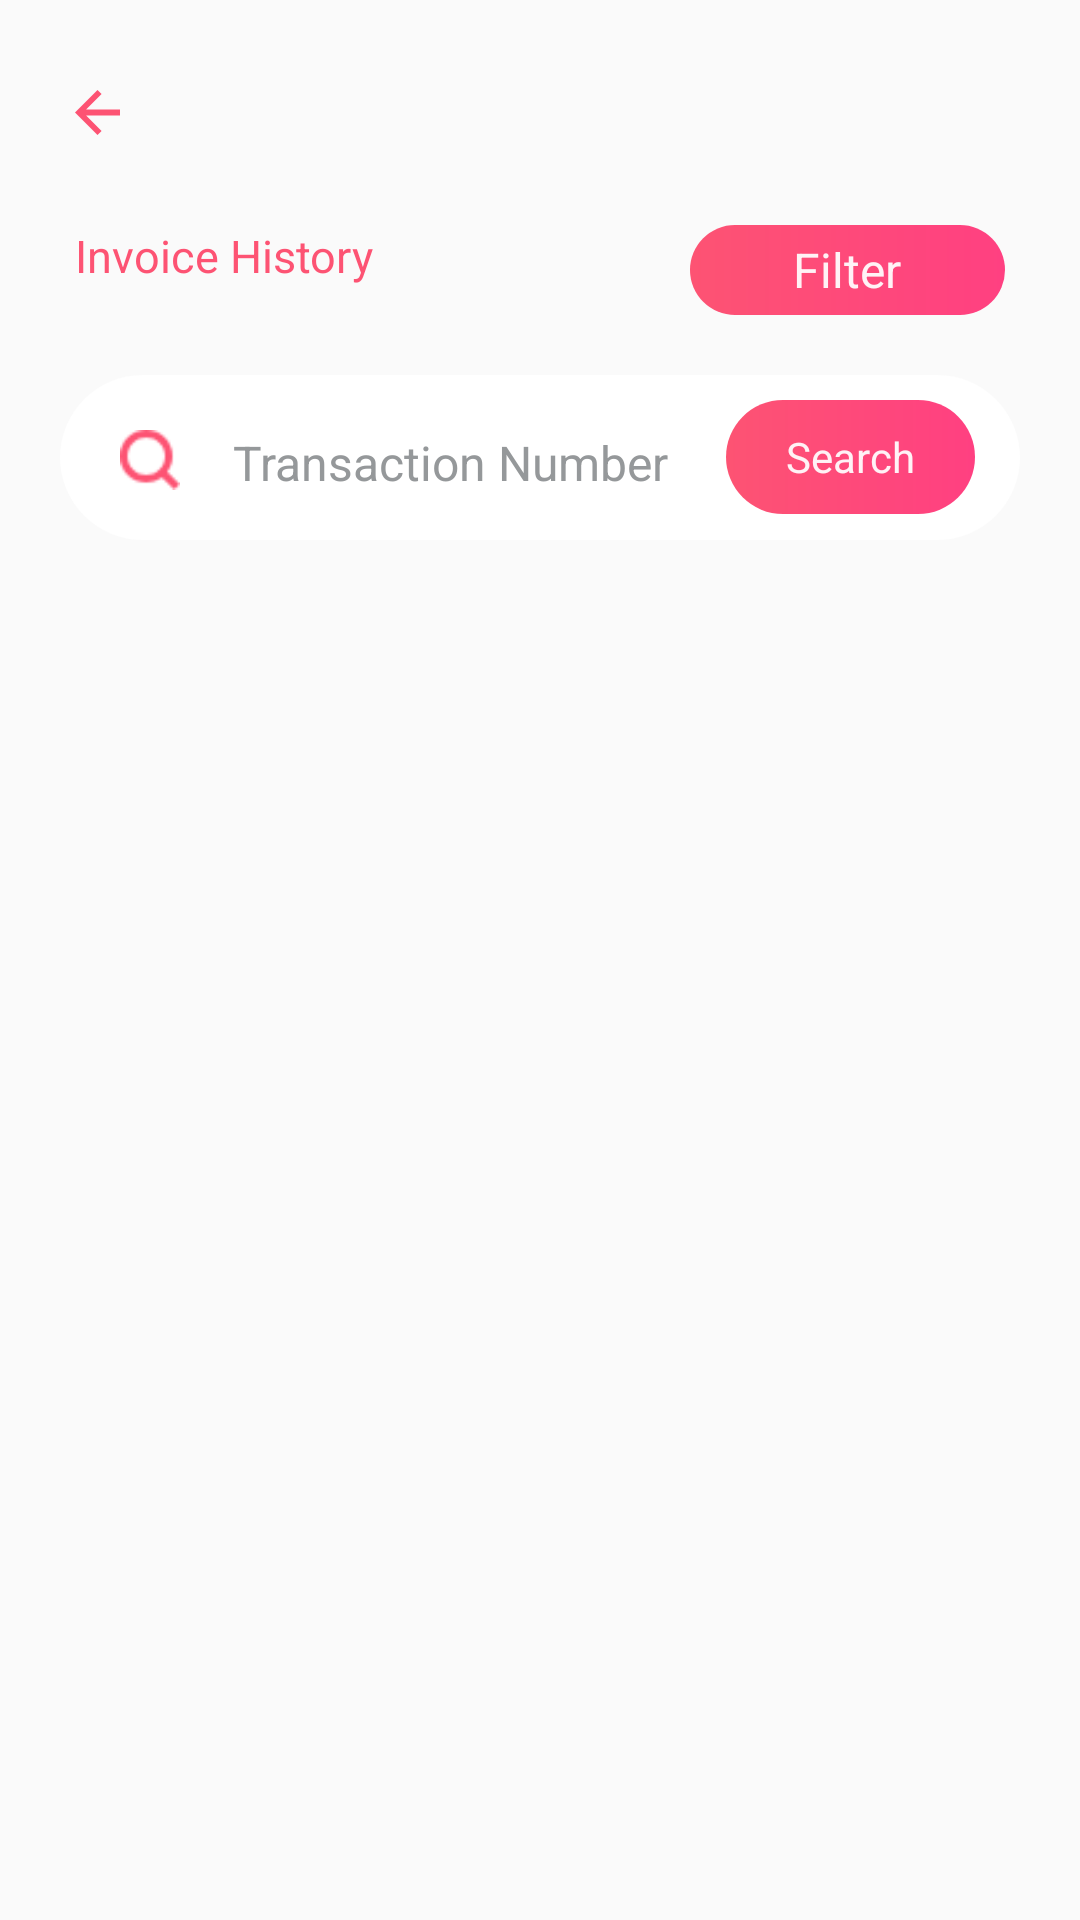

Screen size 1080×1920. Icon name, then its box in pixels as (x1, y1, x2, y2):
backward: (75, 90, 120, 135)
search: (120, 430, 180, 490)
